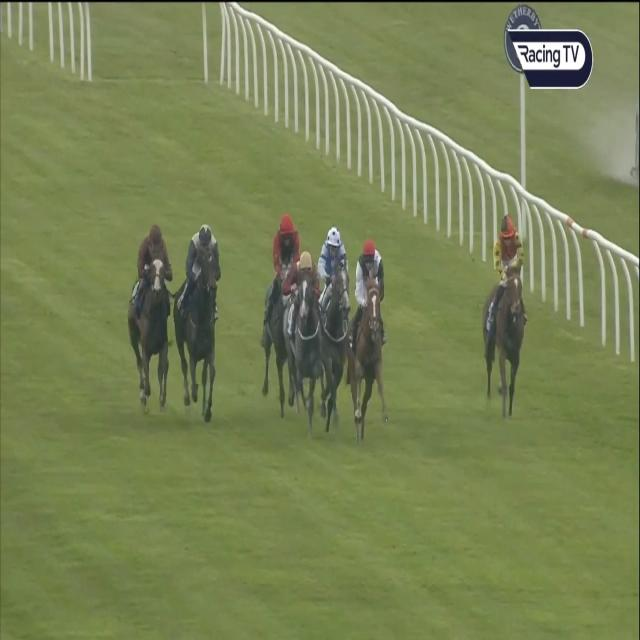horses-racing: (124, 220, 179, 407), (172, 218, 223, 414), (346, 239, 394, 418), (283, 255, 322, 412), (263, 204, 296, 385), (322, 222, 346, 424)
